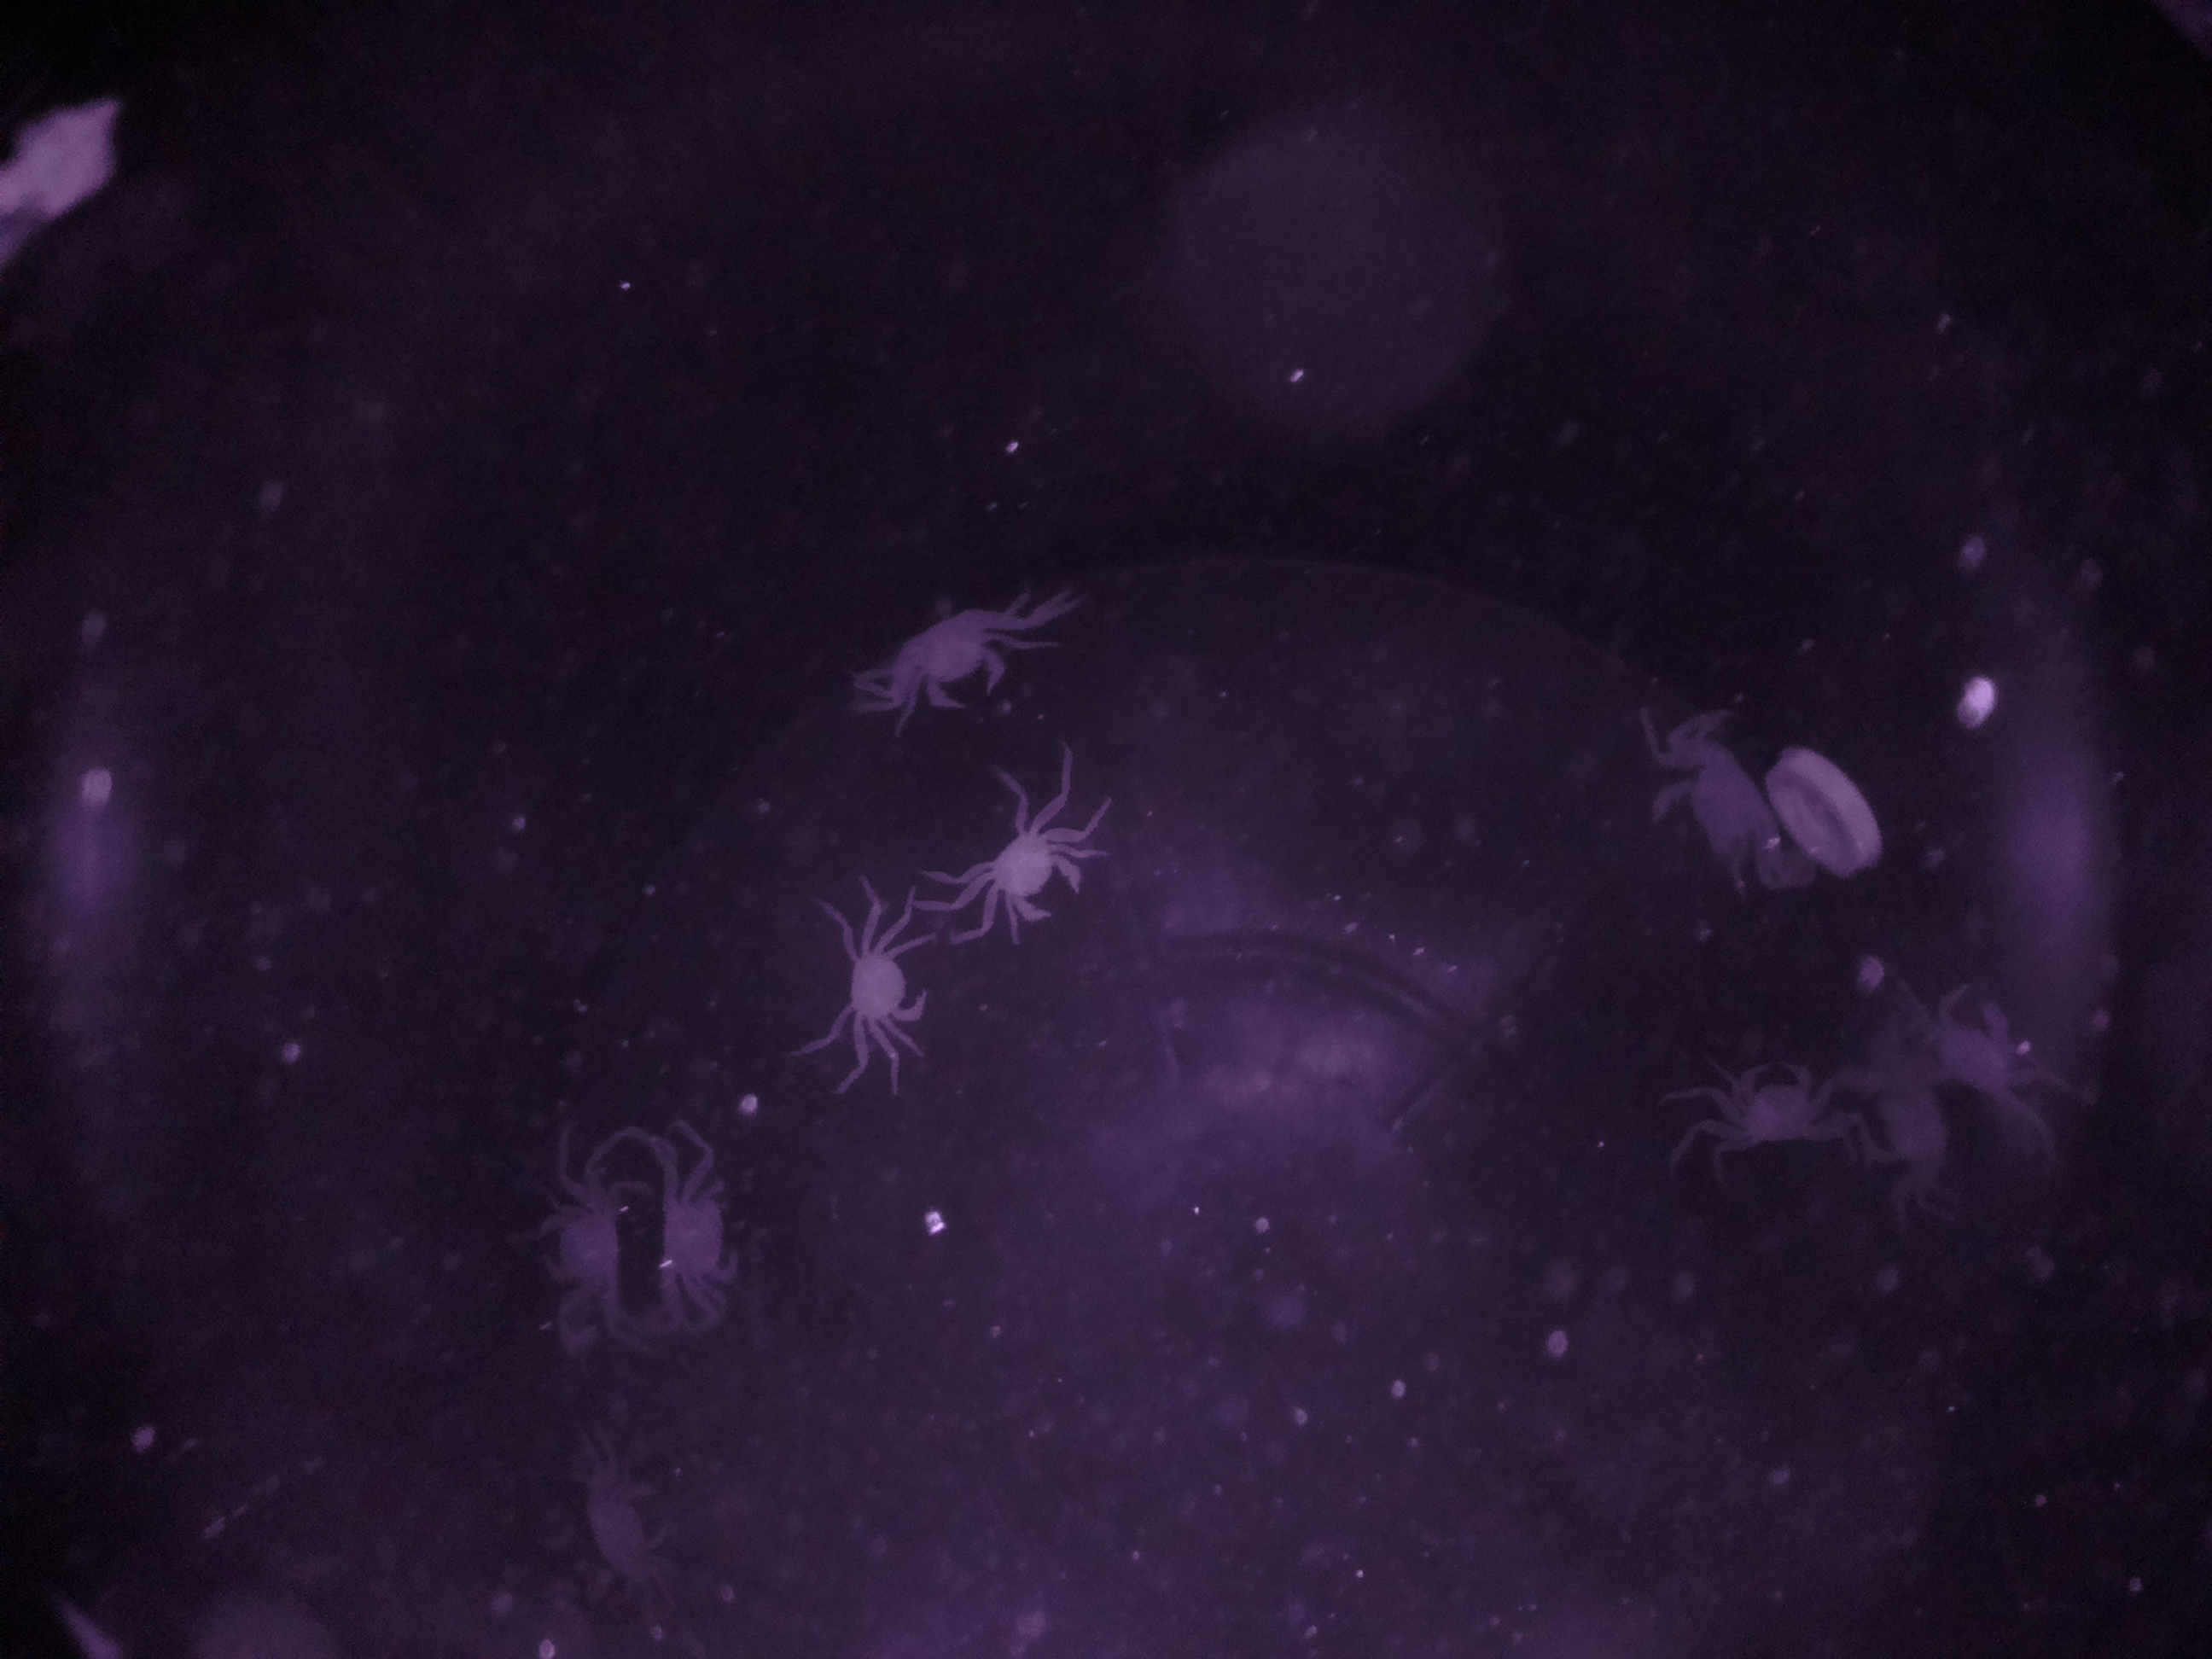Crab: (866, 577, 1055, 744), (951, 788, 1136, 955), (791, 885, 949, 1077), (519, 1108, 643, 1345), (643, 1122, 765, 1342), (1686, 1044, 1858, 1185)
